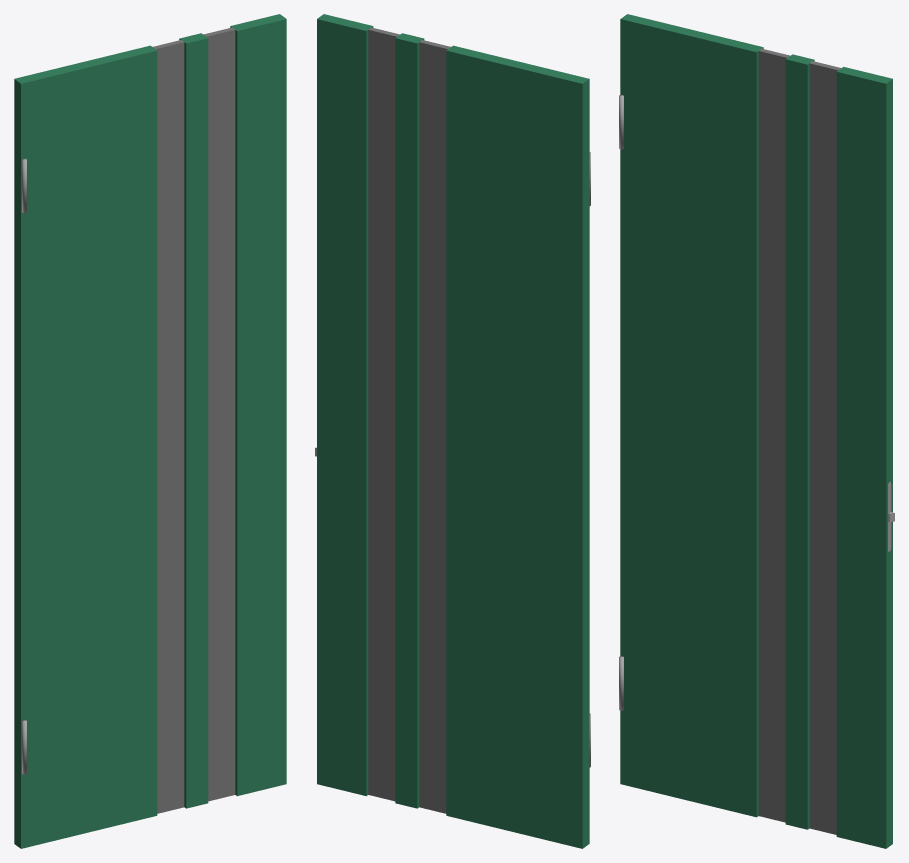
File: 25_BARCELONA_Door.glb
The picture shows the model from 3 angles, left to right: view 1: azimuth 30°, elevation 25°; view 2: azimuth 150°, elevation 25°; view 3: azimuth 330°, elevation 25°; orthographic projection.
Visible parts, largest first — view 1: 25_BARCELONA_Door; view 2: 25_BARCELONA_Door; view 3: 25_BARCELONA_Door.
Part boxes in pixels (x1,y1,x2,y2): 25_BARCELONA_Door: [14, 14, 286, 848]; 25_BARCELONA_Door: [315, 14, 590, 848]; 25_BARCELONA_Door: [619, 14, 894, 848].
Size of the model in its own units: 0.8125 by 2.2 by 0.0488.
